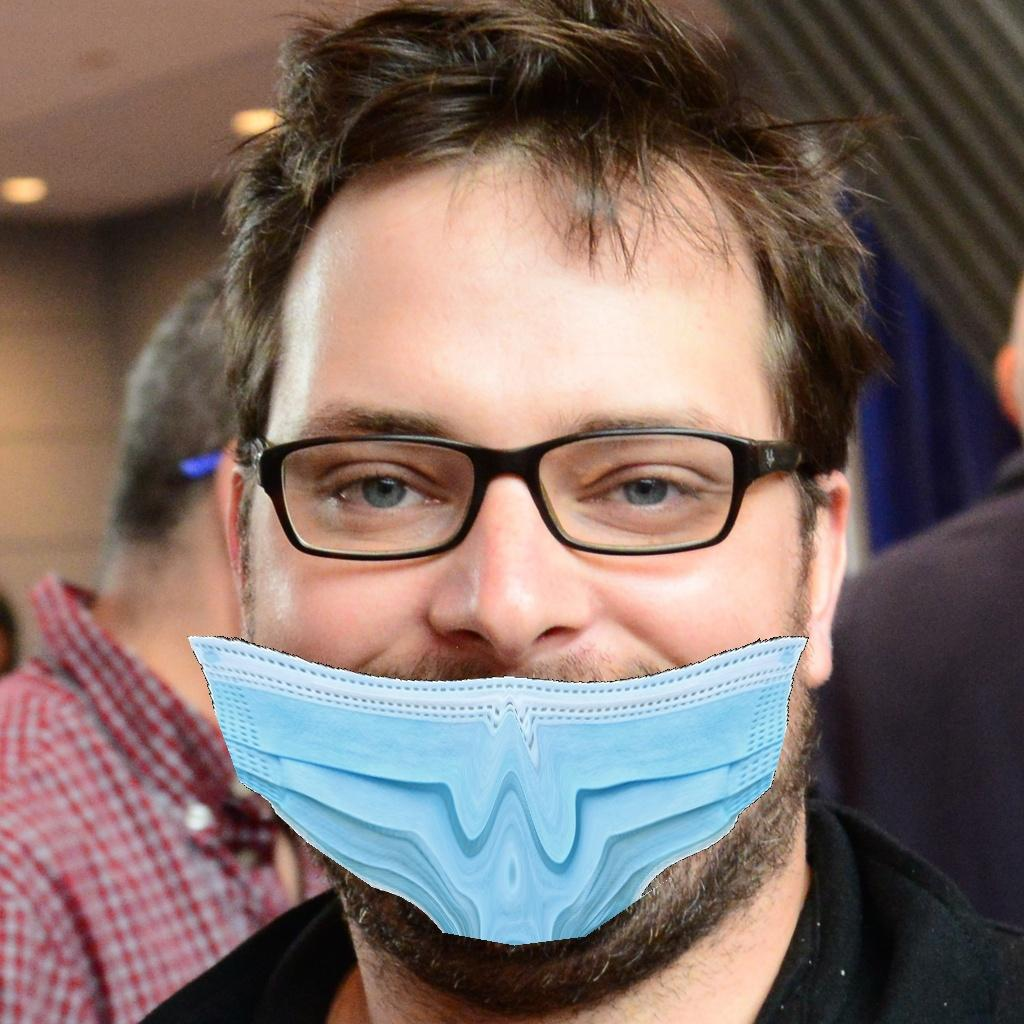Máscara Incorreta: (265, 255, 795, 927)
